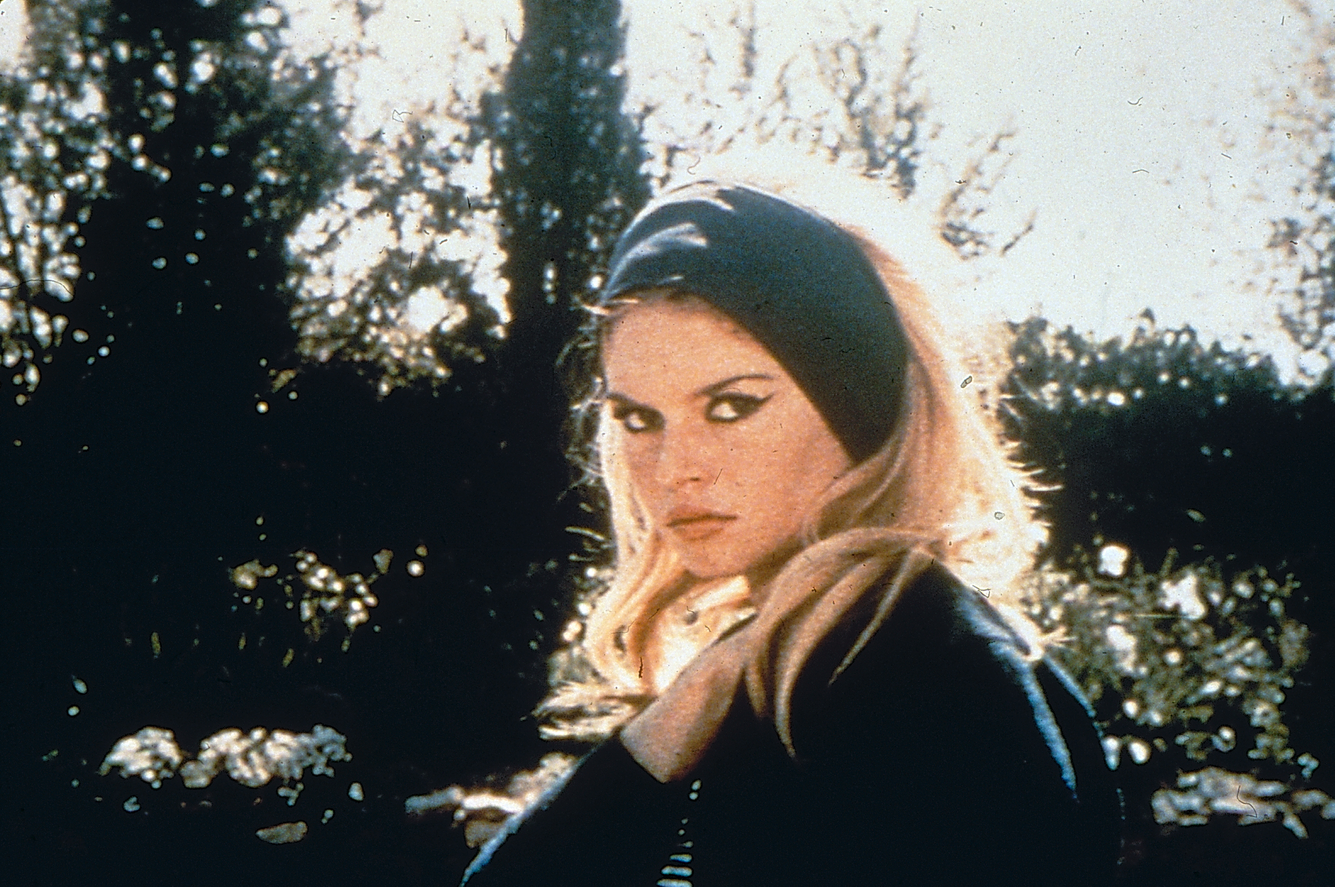28: (568, 259, 850, 621)
Coat: (458, 569, 1116, 887)
Female: (568, 259, 850, 621)
Hair Band: (595, 181, 906, 453)
